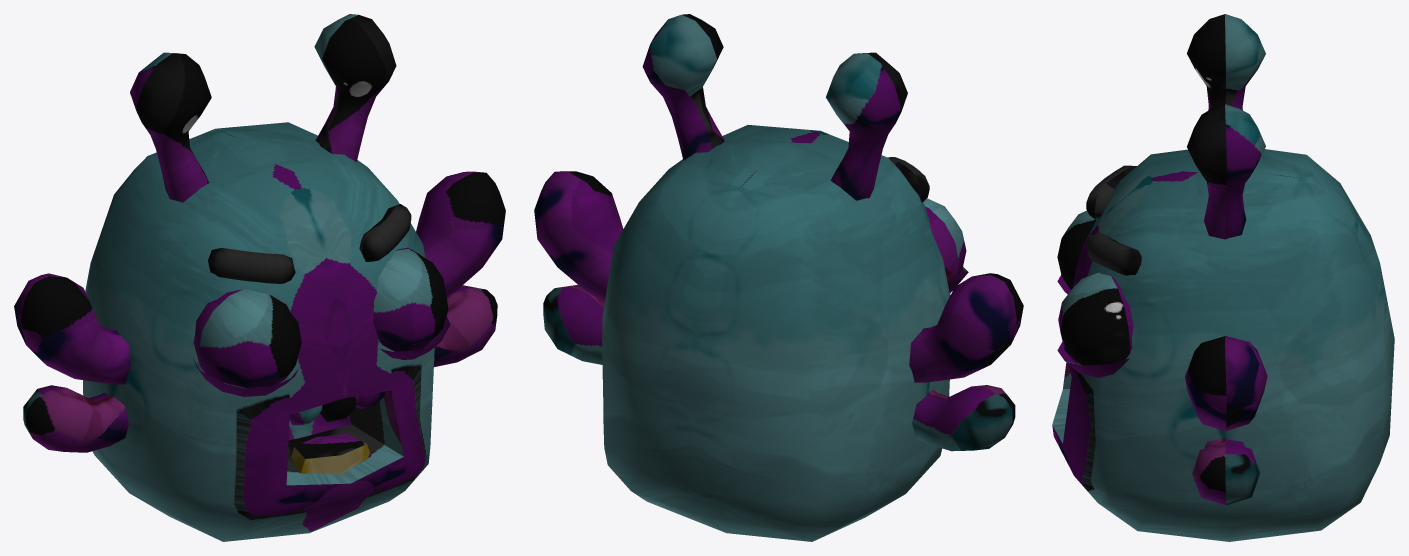
The model's file is alien.glb.
The picture shows the model from 3 angles, left to right: view 1: azimuth 30°, elevation 25°; view 2: azimuth 150°, elevation 25°; view 3: azimuth 270°, elevation 25°; orthographic projection. The views are drawn at different scales.
Parts seen in each view (by area): view 1: Alien_Cube.000, Alien.001_Cube.001; view 2: Alien_Cube.000, Alien.001_Cube.001; view 3: Alien_Cube.000, Alien.001_Cube.001.
Boxes of the visible parts, x1,y1,x2,y2 form: Alien_Cube.000: [83, 122, 434, 541]; Alien.001_Cube.001: [14, 14, 505, 452]; Alien_Cube.000: [602, 125, 950, 541]; Alien.001_Cube.001: [534, 14, 1023, 451]; Alien_Cube.000: [1052, 149, 1394, 541]; Alien.001_Cube.001: [1057, 14, 1267, 505].
Size of the model in its own units: 2.19 by 2.09 by 1.42.
1 material, 1 textured.
